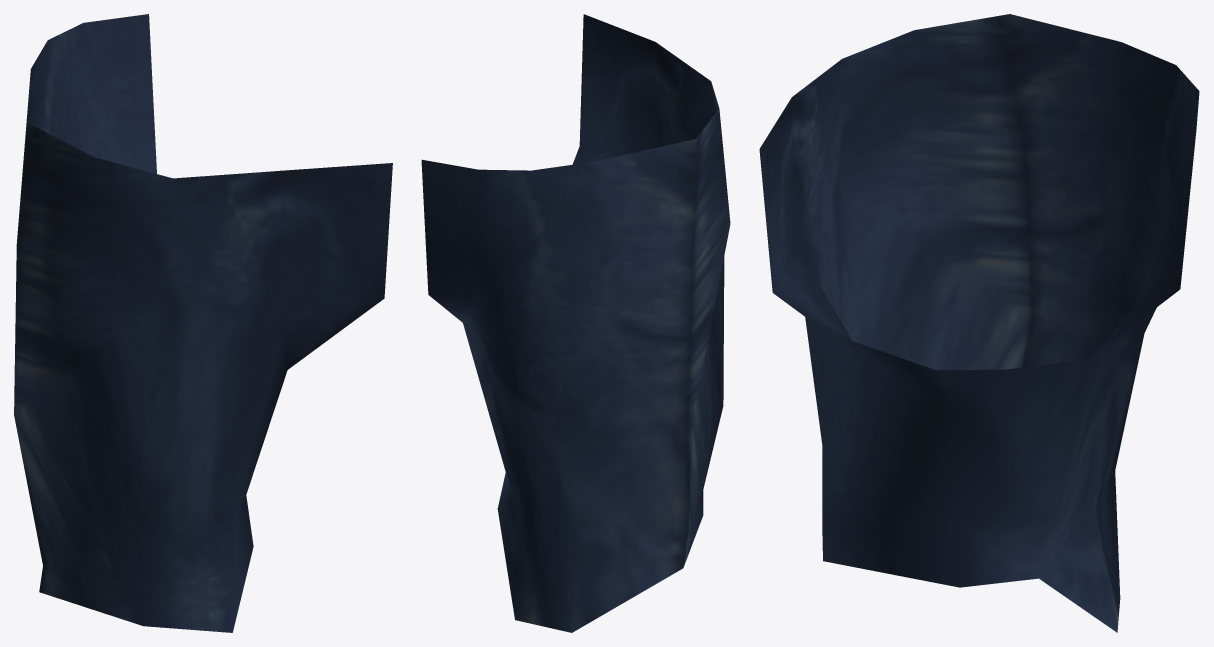
Rendered from pierna_der.obj.
3 views of the same model, side by side, from view 1: azimuth 30°, elevation 25°; view 2: azimuth 150°, elevation 25°; view 3: azimuth 270°, elevation 25° (orthographic). The views are drawn at different scales.
Parts seen in each view (by area): view 1: PIERNAS; view 2: PIERNAS; view 3: PIERNAS.
Boxes of the visible parts, x1,y1,x2,y2 form: PIERNAS: (14,14,392,632); PIERNAS: (421,14,730,632); PIERNAS: (759,14,1199,632).
Bounding box in the file's own units: 0.2062 × 0.4155 × 0.3038.
